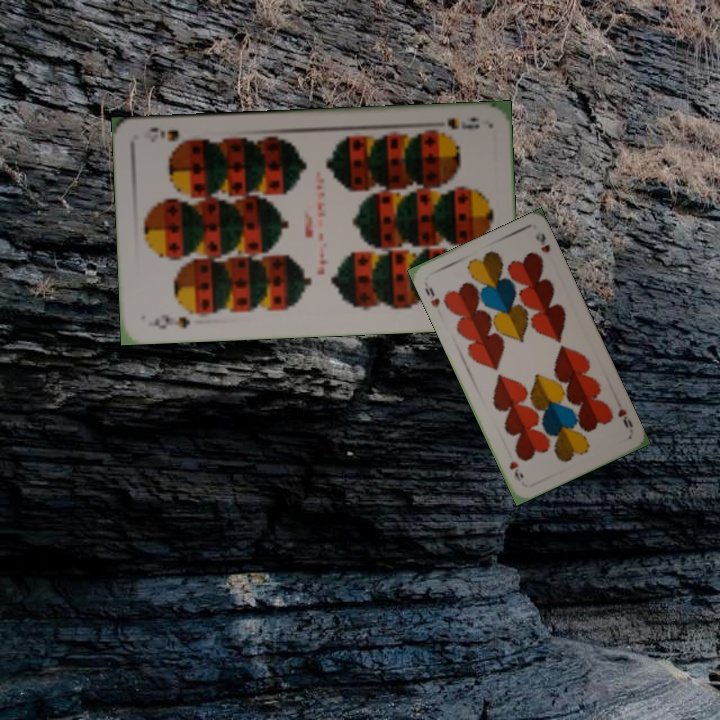H9: (420, 283, 443, 310), (614, 405, 636, 431)
S9: (145, 310, 193, 331), (443, 113, 483, 132)
